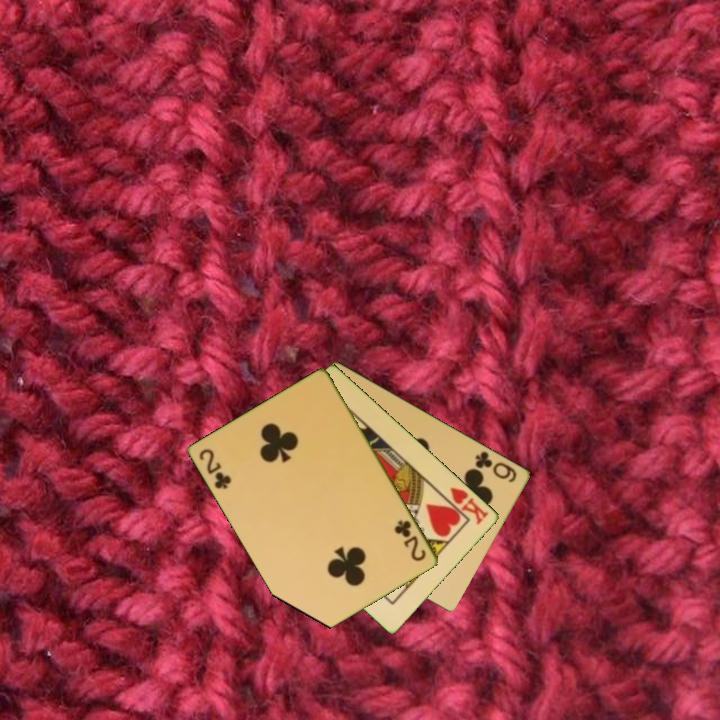2c: (196, 445, 235, 492), (391, 517, 429, 564)
6c: (472, 447, 520, 486)
Kh: (439, 483, 492, 528)
